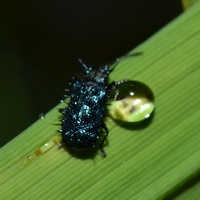insect: (20, 61, 154, 165)
